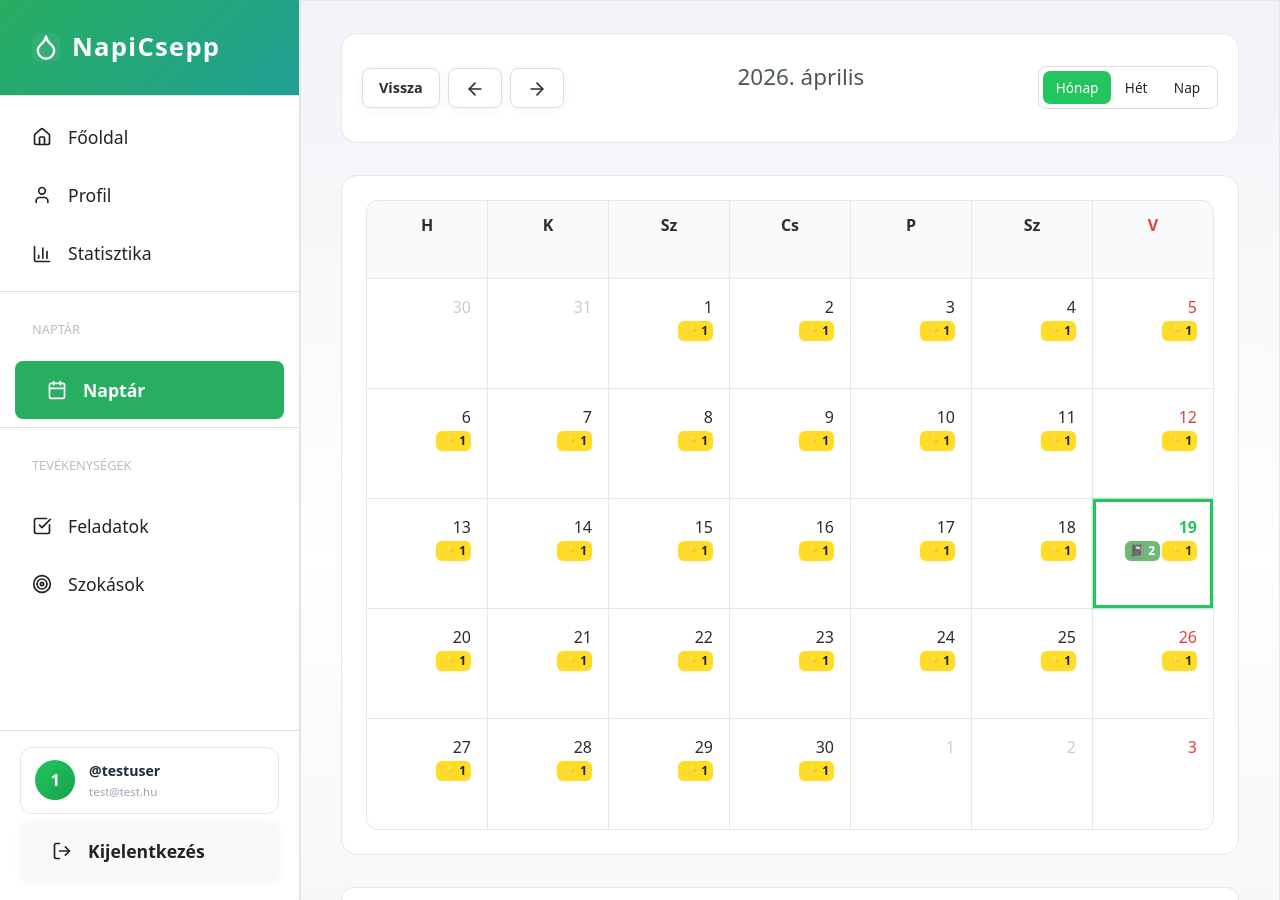
Scenario: Naptár - Havi nézet popupok és CRUD › 23 - "Új esemény hozzáadása" gombra kattintás EventPopup-ot nyit
Click the element with class "current-day" at (1153, 554), box top-left (1093, 499), bottom-right (1213, 608)
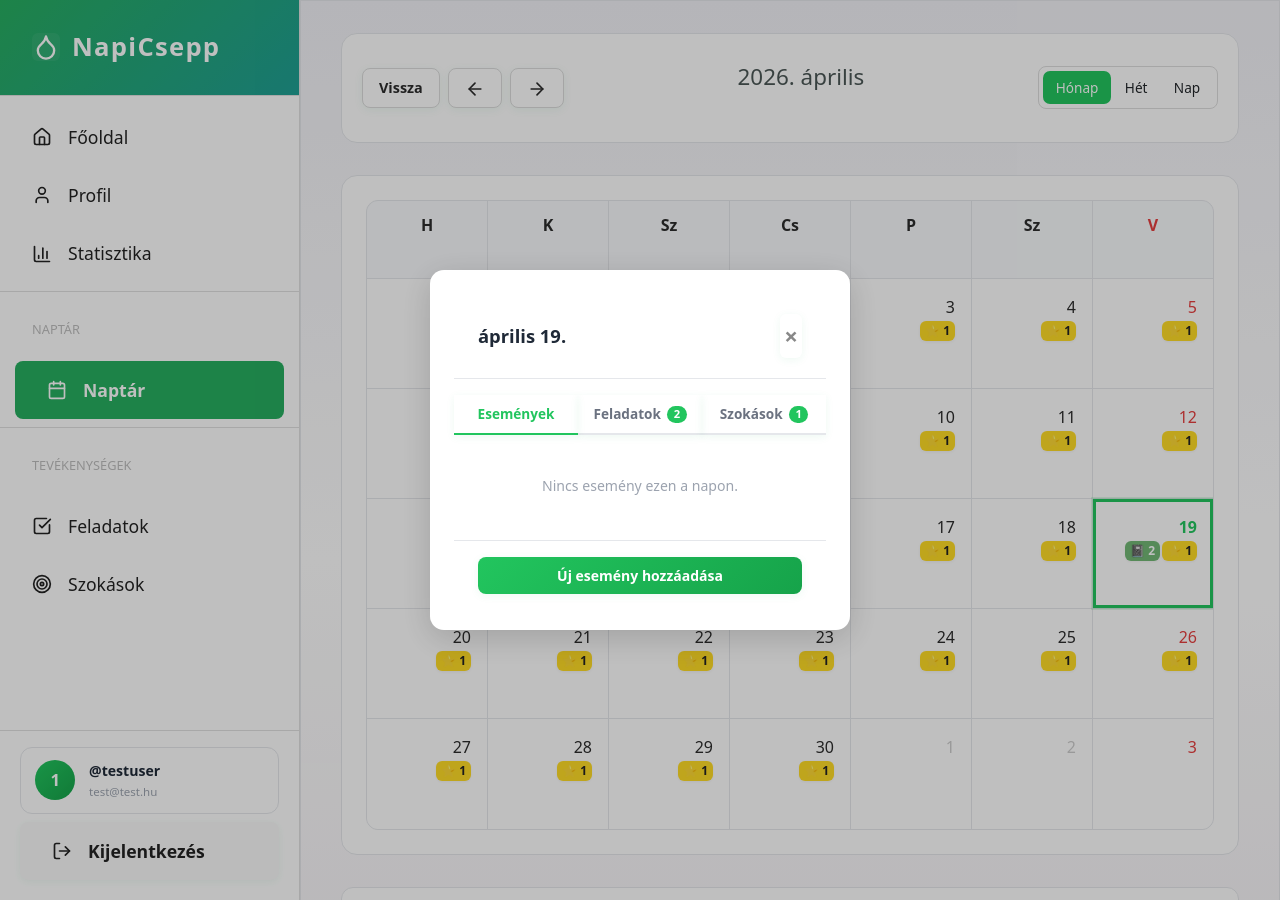
Click the button with class "btn-save" at (640, 576), box top-left (478, 557), bottom-right (802, 594)
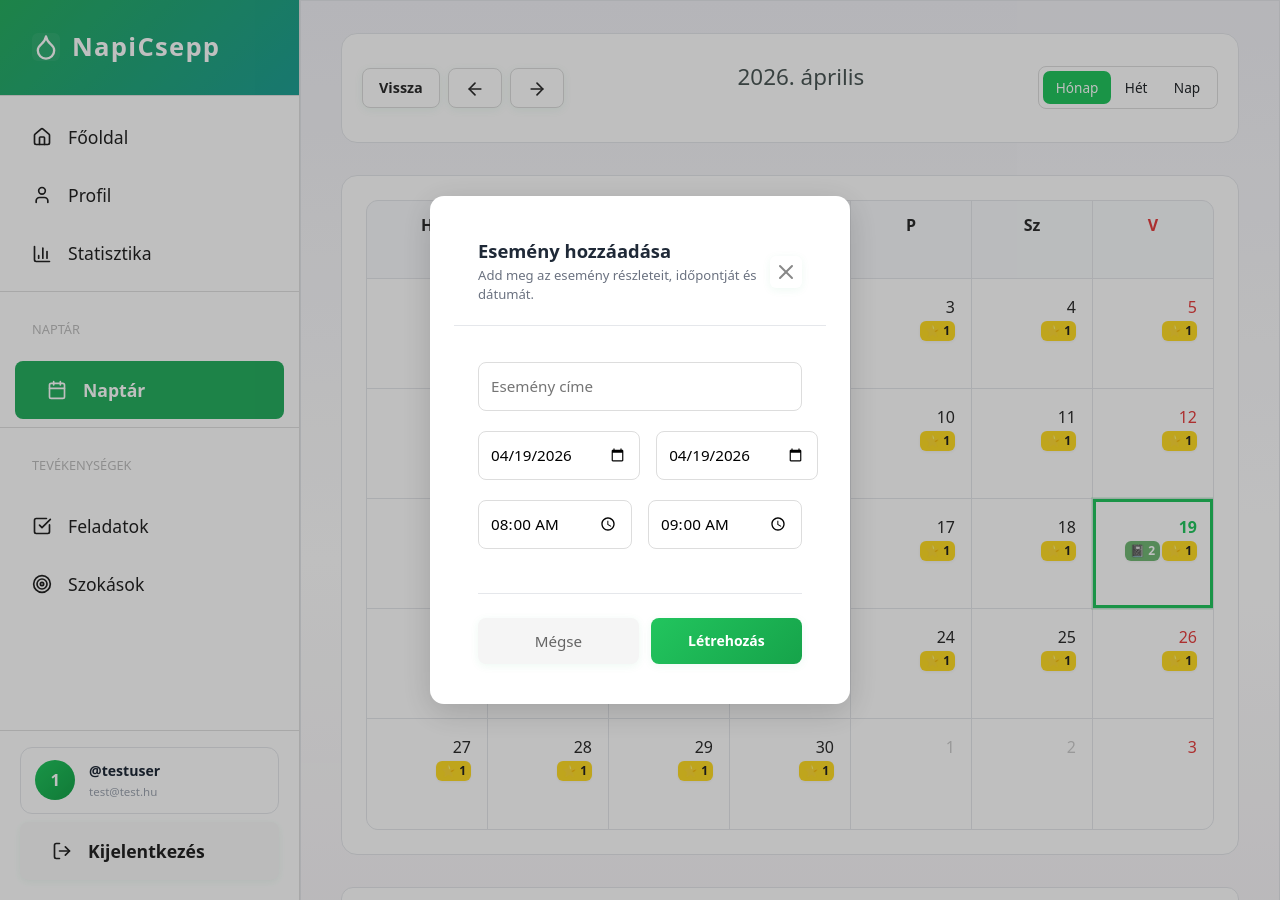
Expected: the element that starts with "Esemény hozzáadása" is shown
Expected: the form is shown, top-left (454, 342), bottom-right (826, 684)
